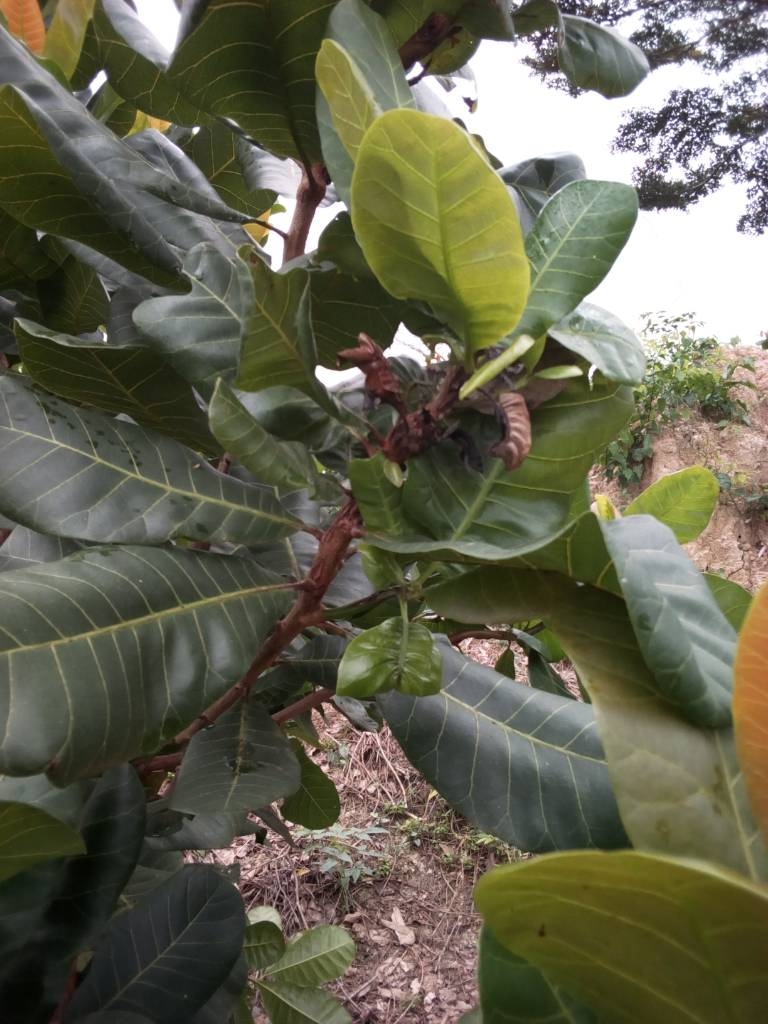Dessèchement des bourgeons: (382, 361, 462, 448)
